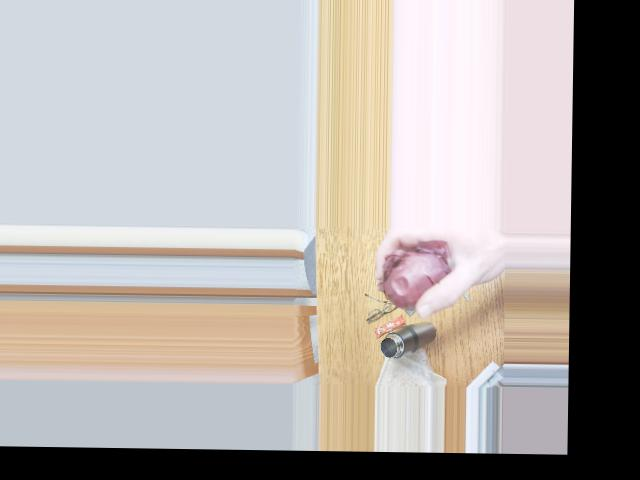onion: (383, 246, 451, 310)
